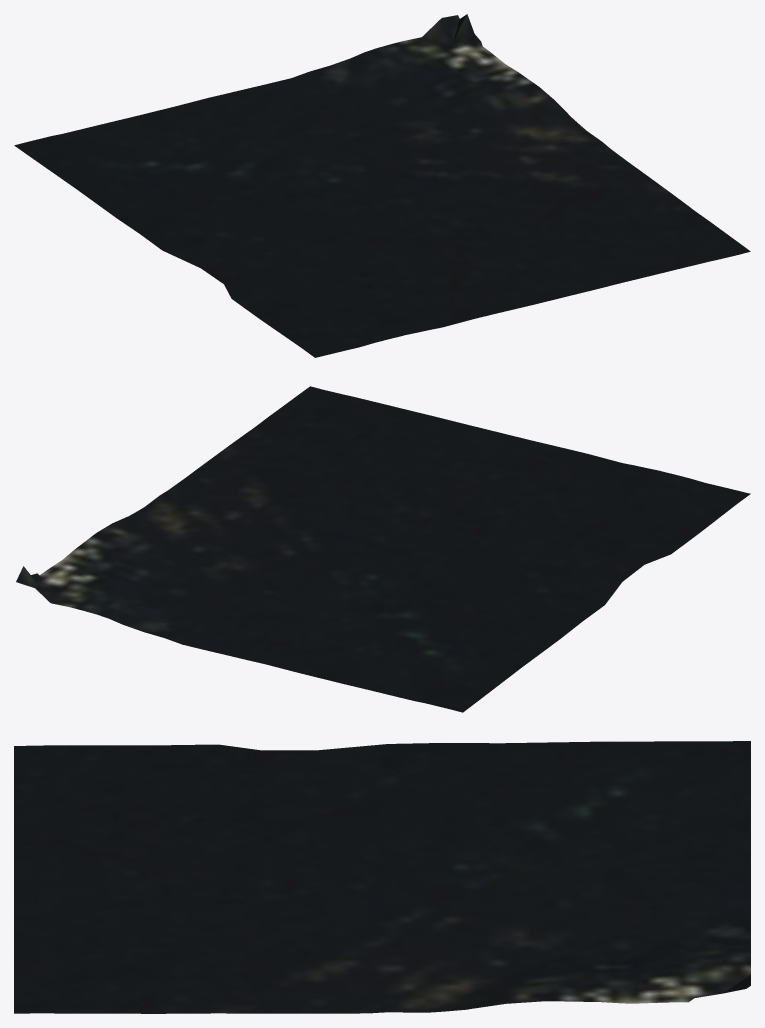
3 views of the same model, one above another, from view 1: azimuth 30°, elevation 25°; view 2: azimuth 150°, elevation 25°; view 3: azimuth 270°, elevation 25° (orthographic). The views are drawn at different scales.
Size of the model in its own units: 45.69 by 3.04 by 52.22.
Materials: 2 (2 with a texture image).
